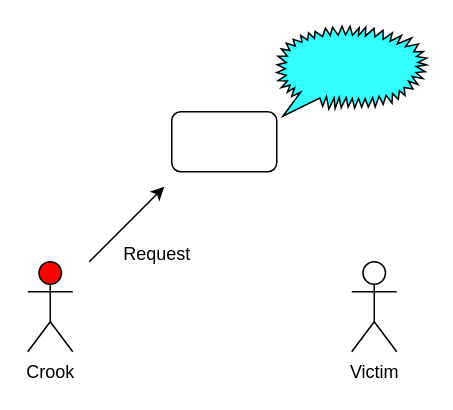
The diagram is 453 pixels wide and 410 high, and some of its shapes have lost their labels. Each missing label, with the centre of its shape:
It's a scam: (351,70)
TTP: (223,141)
